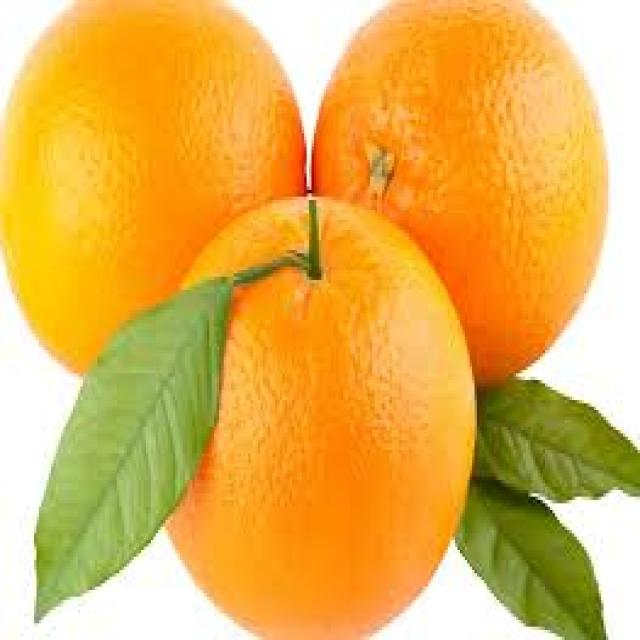Ripe: (154, 172, 484, 640), (311, 0, 613, 243), (2, 0, 310, 193)
